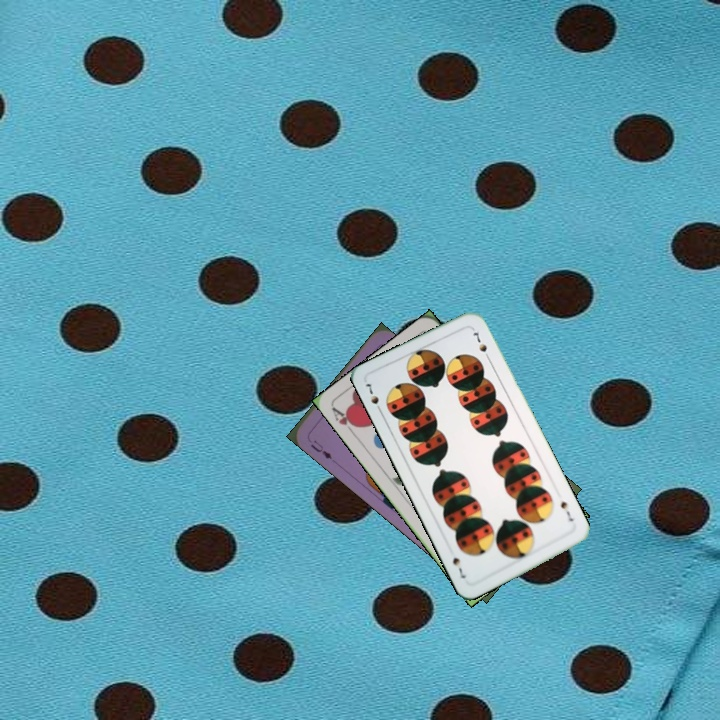EU: (306, 436, 335, 462)
HA: (328, 403, 362, 438)
S7: (362, 379, 385, 416), (556, 495, 576, 524)
